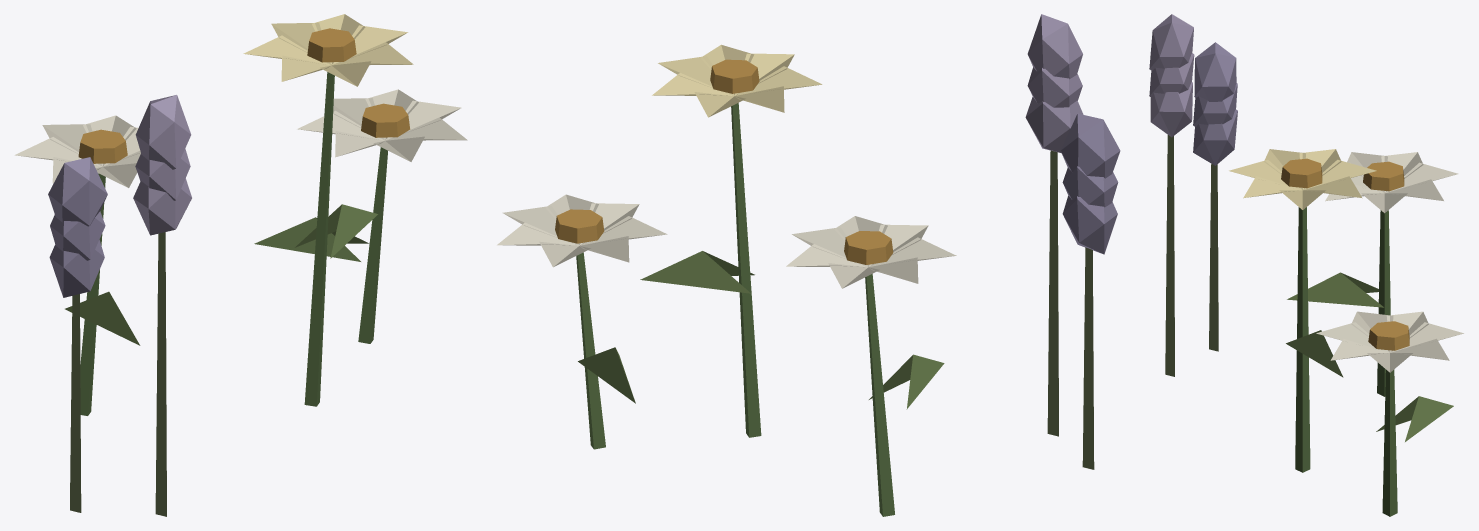
File: flowerPatch.glb
3 views of the same model, side by side, from view 1: azimuth 30°, elevation 25°; view 2: azimuth 150°, elevation 25°; view 3: azimuth 270°, elevation 25° (orthographic). The views are drawn at different scales.
Parts seen in each view (by area): view 1: surface; view 2: surface; view 3: surface.
Boxes of the visible parts, <box> form: surface: <box>14,14,467,516</box>; surface: <box>497,14,1120,516</box>; surface: <box>1149,14,1463,516</box>.
Bounding box in the file's own units: 0.9261 × 0.7253 × 0.5776.
